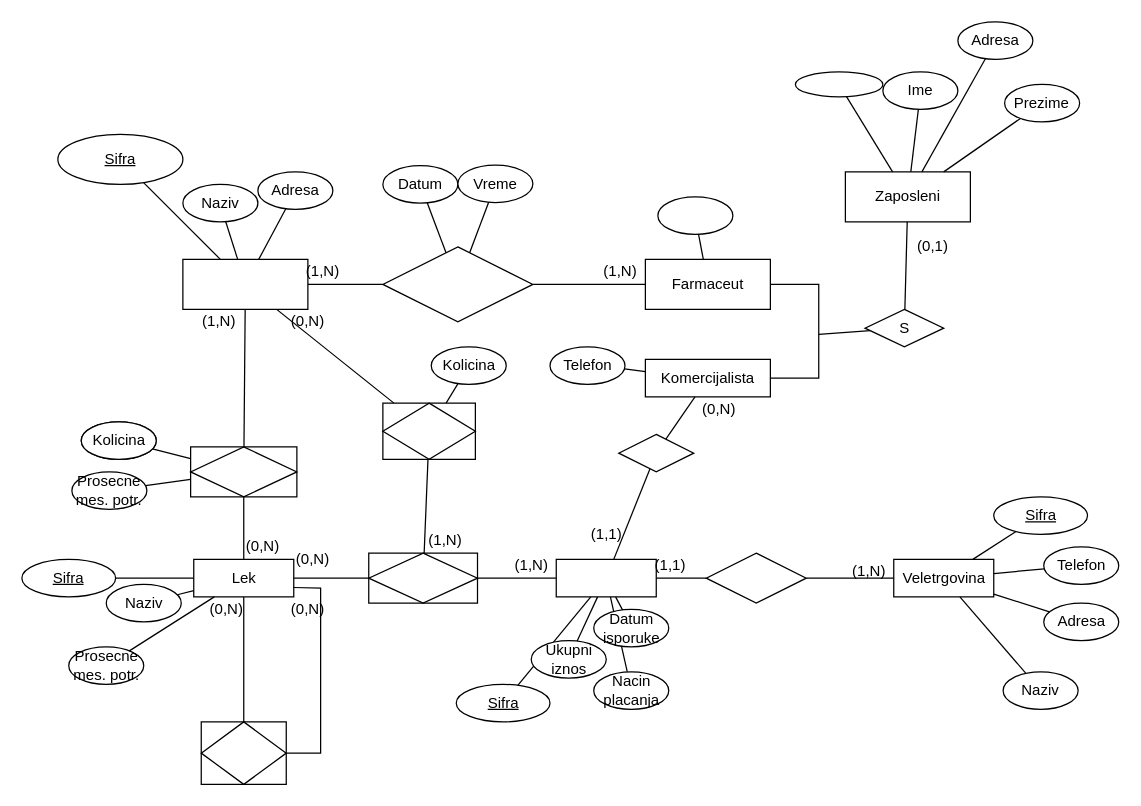
Image size: 1141x806. Some labels were removed from this diagram. The shapes that lost their labels are listed below. From the top down, each one's centre as x and y in pixels, then its label:
At point (838, 84): "MBR".
At point (695, 215): "Strucna sprema".
At point (245, 283): "Apoteka".
At point (457, 284): "Zaposlen".
At point (428, 430): "Isporucen".
At point (243, 471): "Raspolaze".
At point (656, 452): "Primio".
At point (423, 577): "Isporucuje".
At point (605, 577): "Nabavka".
At point (755, 577): "Izdaje".
At point (243, 752): "Zamena".
